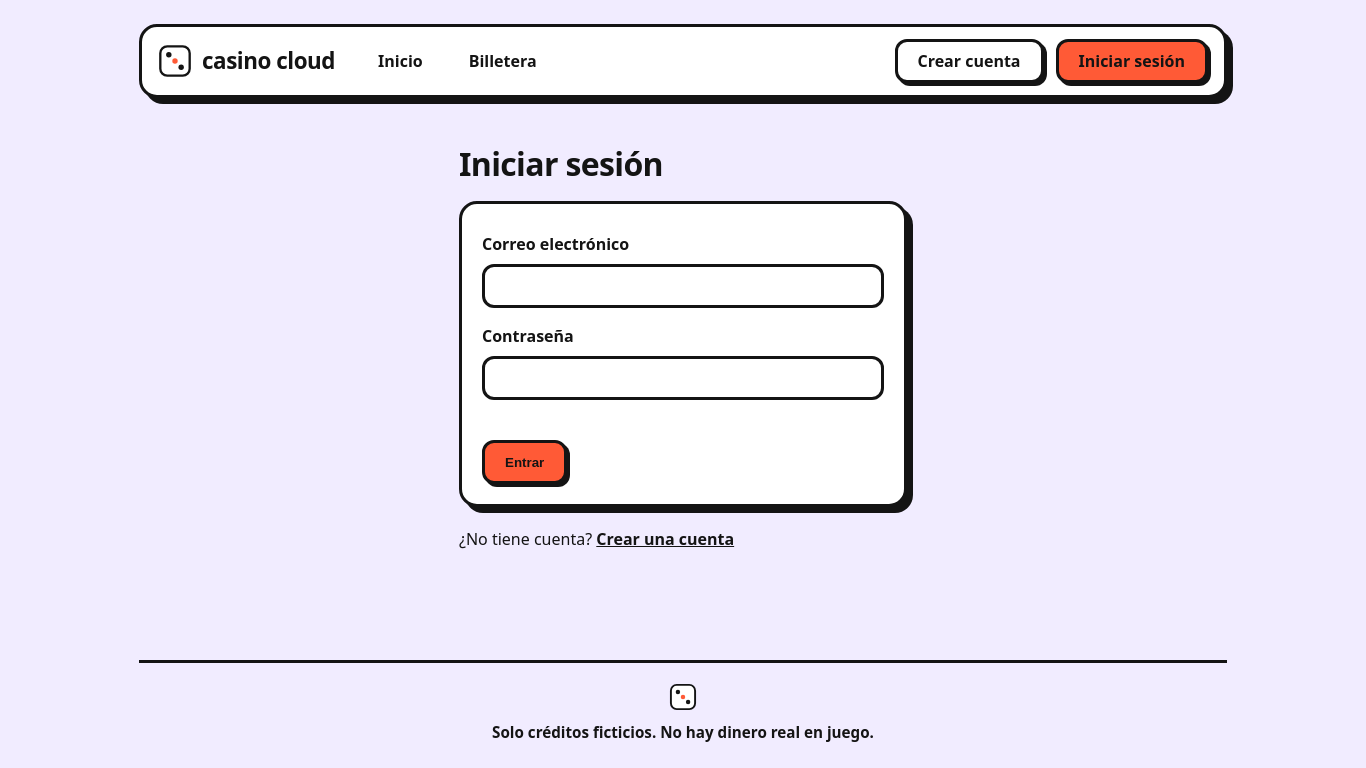
Test case: LoginPage › returns to the page that asked for the session
Type "ana@casino.test" into the field labelled "Correo electrónico" at (683, 286), box [482, 264, 884, 308]
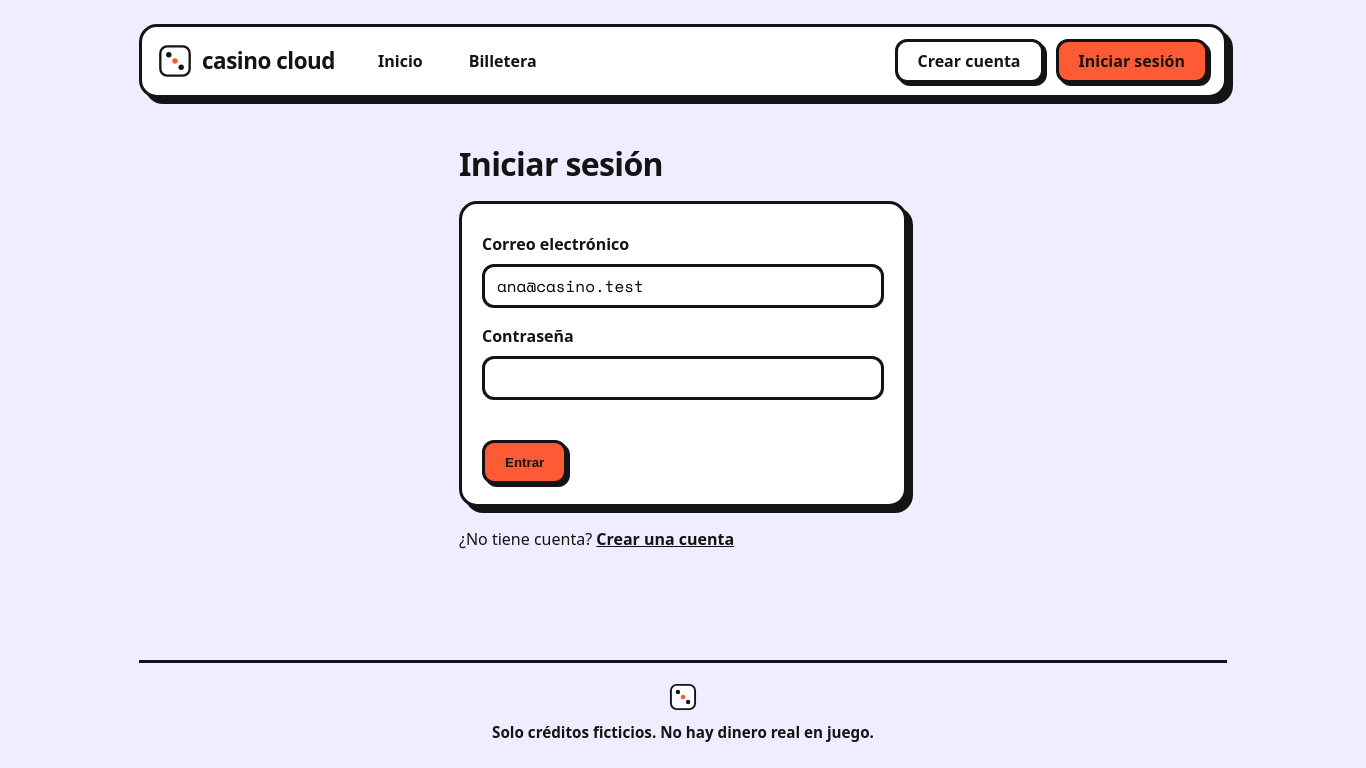
Type "password123" into the password field labelled "Contraseña" at (683, 378), box [482, 356, 884, 400]
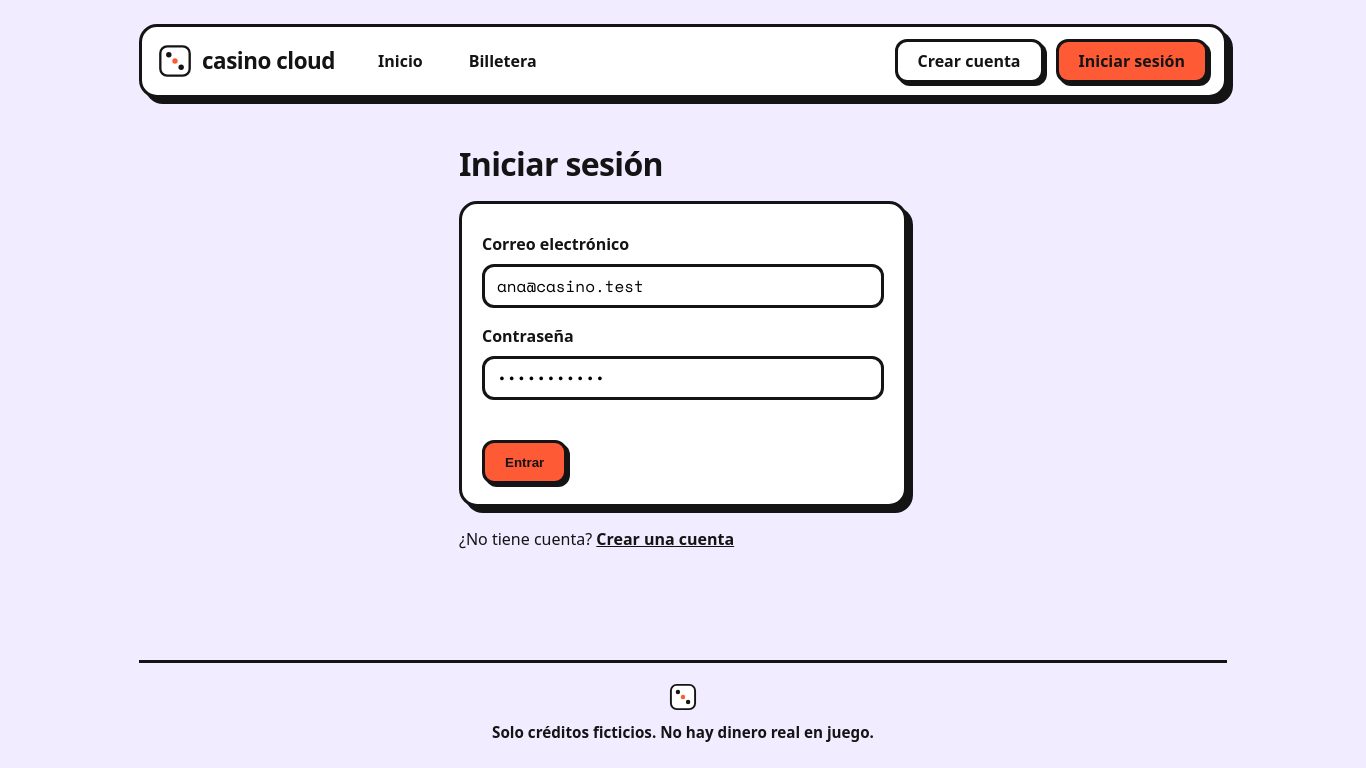
Click the button "Entrar" at (525, 462), box [482, 440, 567, 484]
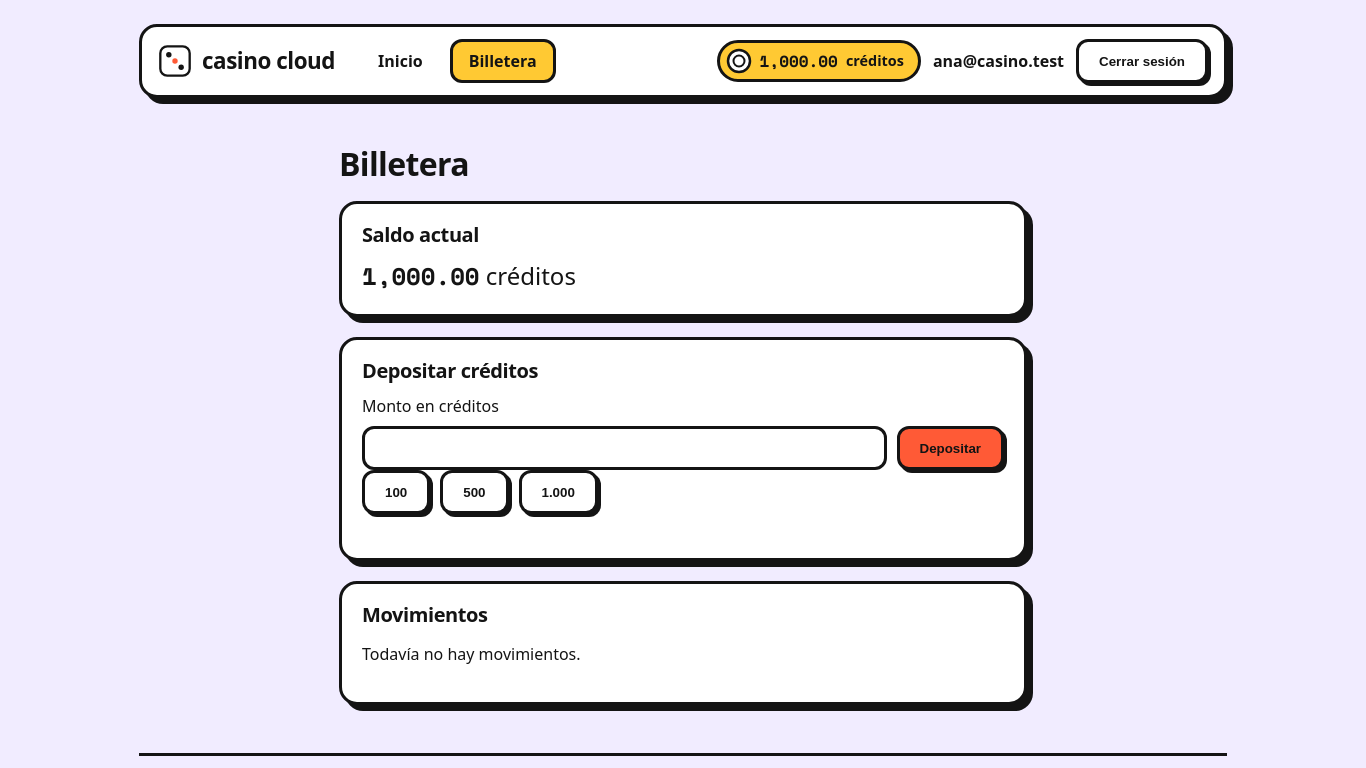
Check: the heading "Billetera" is shown, box [339, 142, 469, 185]
